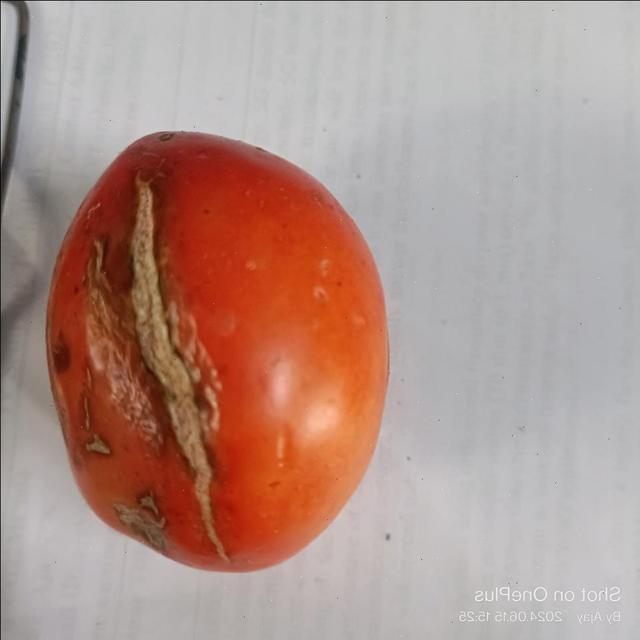Cracking Fruit: (68, 171, 169, 280)
